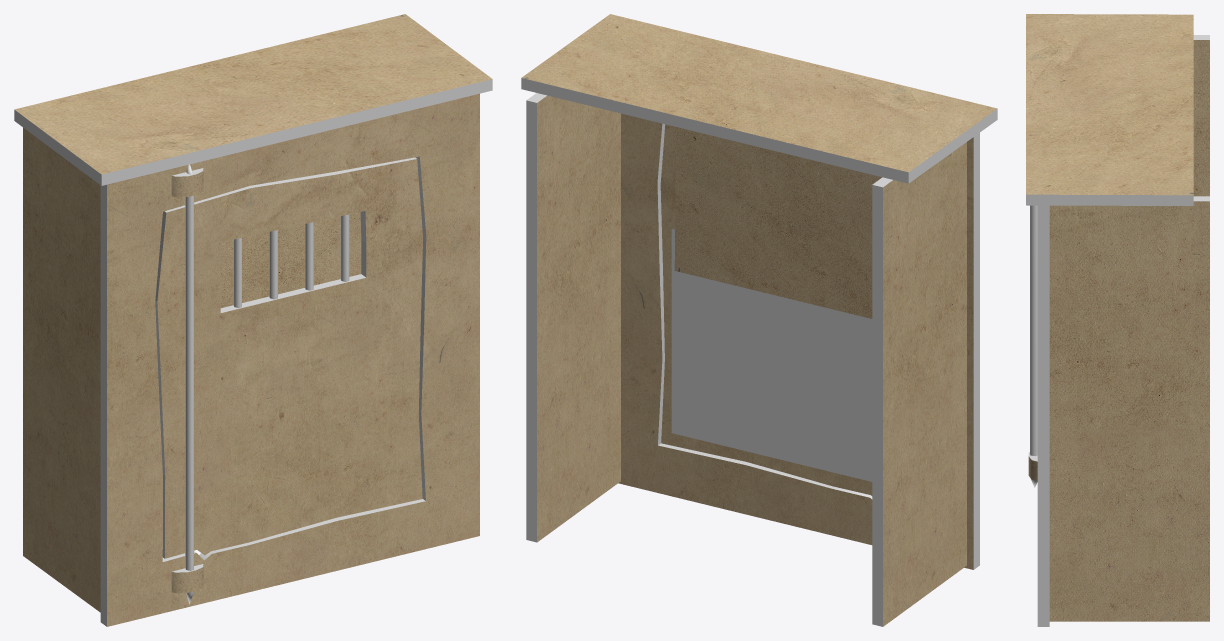
The model's file is Cardboard_DoorEntrance_01.fbx.
3 renders of one model, left to right at view 1: azimuth 30°, elevation 25°; view 2: azimuth 150°, elevation 25°; view 3: azimuth 270°, elevation 25°, orthographic. The views are drawn at different scales.
Visible parts, largest first — view 1: Cardboard_DoorEntranceFrame_01, Cardboard_DoorEntrancePanel_01; view 2: Cardboard_DoorEntranceFrame_01, Cardboard_DoorEntrancePanel_01; view 3: Cardboard_DoorEntranceFrame_01, Cardboard_DoorEntrancePanel_01.
Boxes of the visible parts, box(x1,y1,x2,y2) form: Cardboard_DoorEntranceFrame_01: box(14, 14, 492, 626); Cardboard_DoorEntrancePanel_01: box(155, 157, 422, 604); Cardboard_DoorEntranceFrame_01: box(521, 14, 997, 626); Cardboard_DoorEntrancePanel_01: box(660, 124, 872, 495); Cardboard_DoorEntranceFrame_01: box(1026, 14, 1209, 626); Cardboard_DoorEntrancePanel_01: box(1030, 205, 1037, 487).
Bounding box in the file's own units: 191 × 214 × 82.05.
